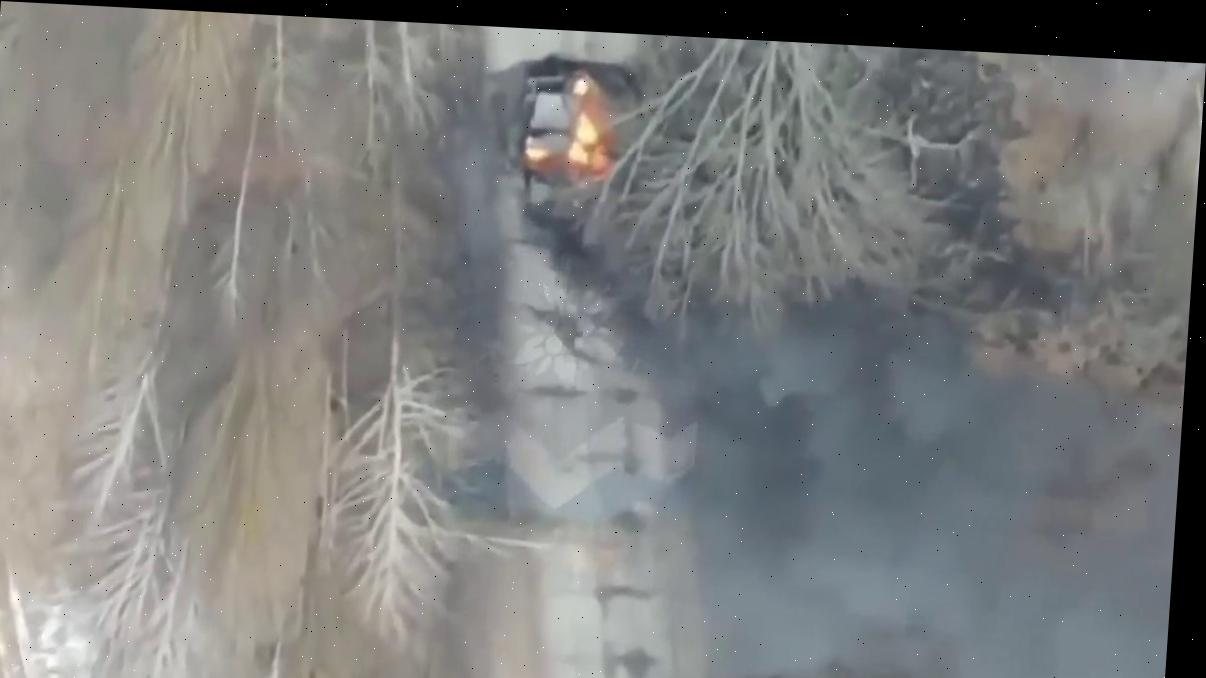truck: (515, 65, 594, 213)
